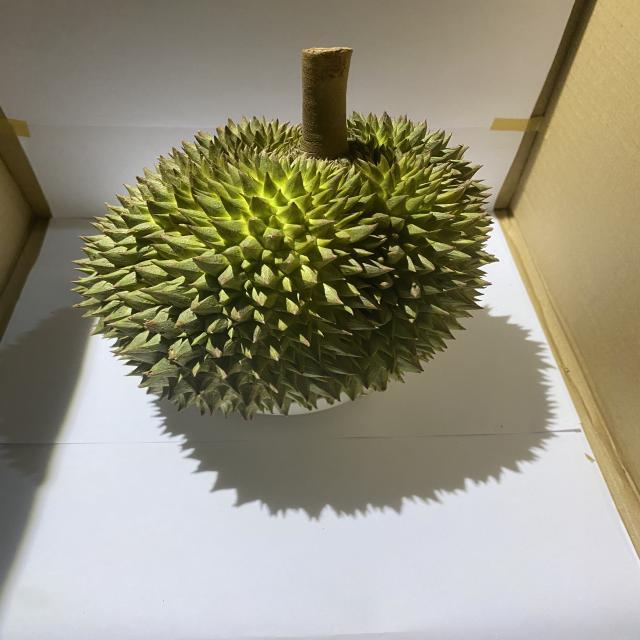immature: (66, 108, 505, 420)
